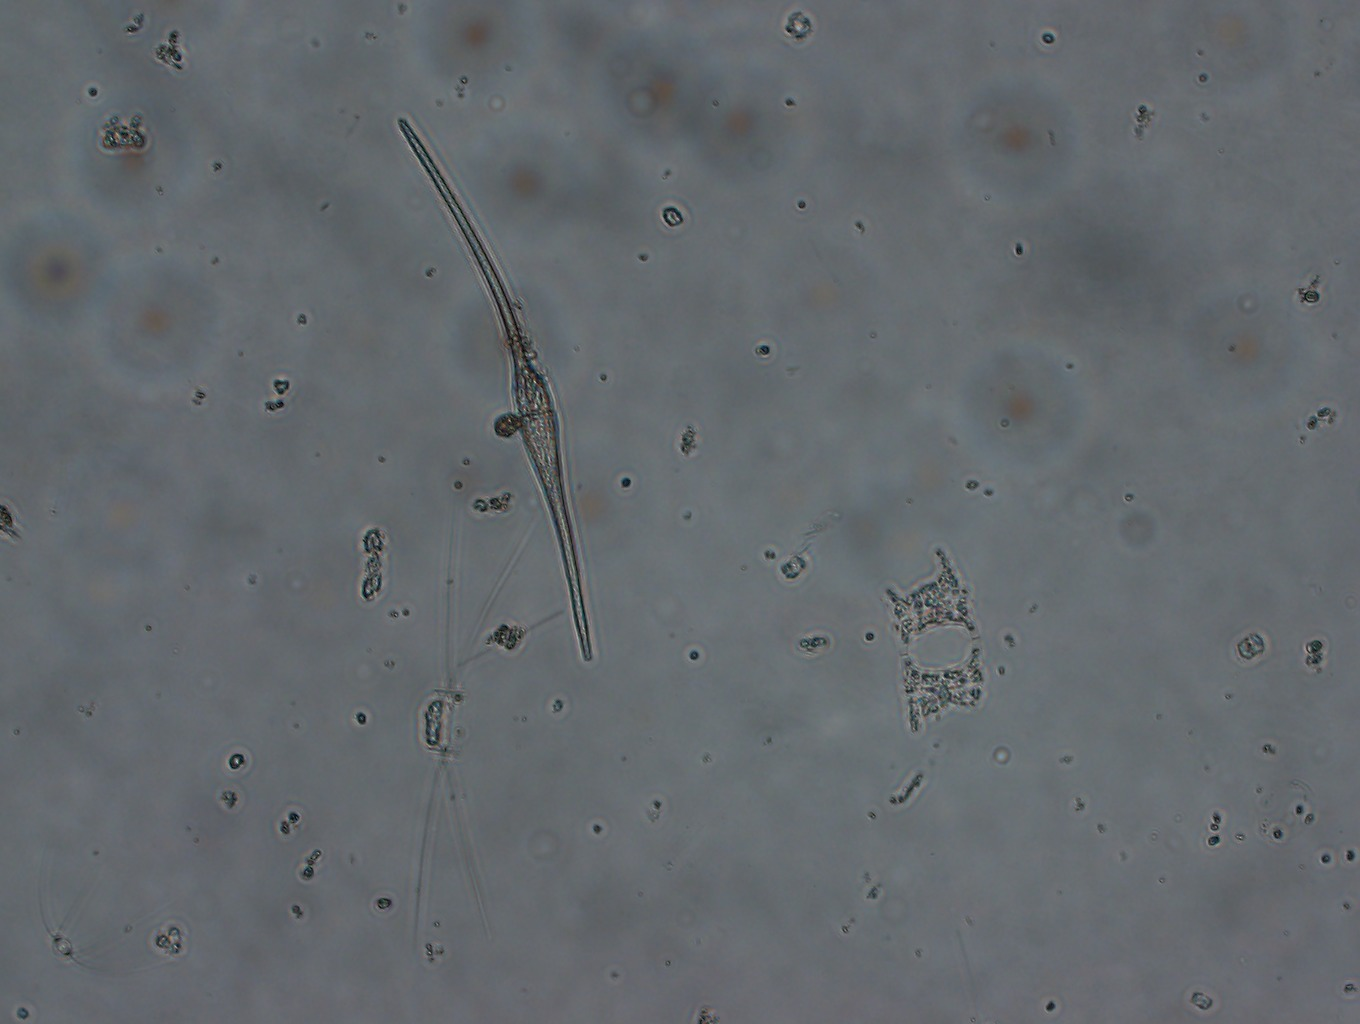ceratium fusus: (390, 111, 600, 665)
chaetoceros: (409, 506, 532, 947)
eucampia: (861, 545, 996, 737)
